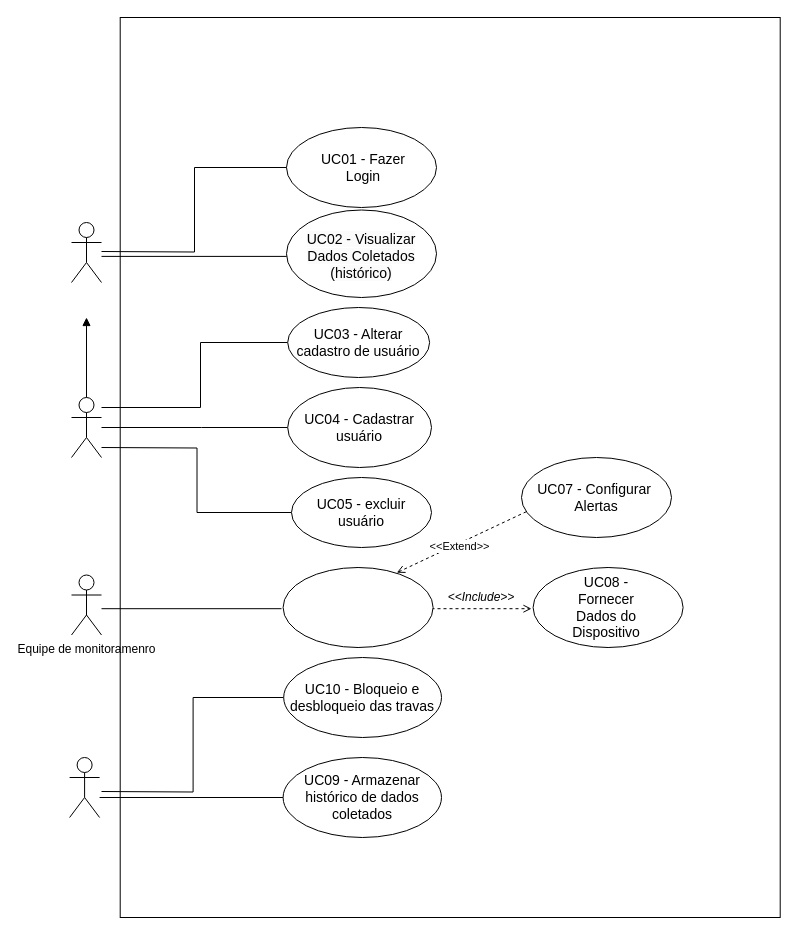
This 798x935 diagram has some shape labels left out. Here are the shapes that lost their labels. From the top down, the centre of each, then its label:
At pixel 86 252: "Usuário".
At pixel 86 427: "Administrador".
At pixel 357 607: "UC06 - Registrar Dispositivo".
At pixel 84 787: "Sistema".
